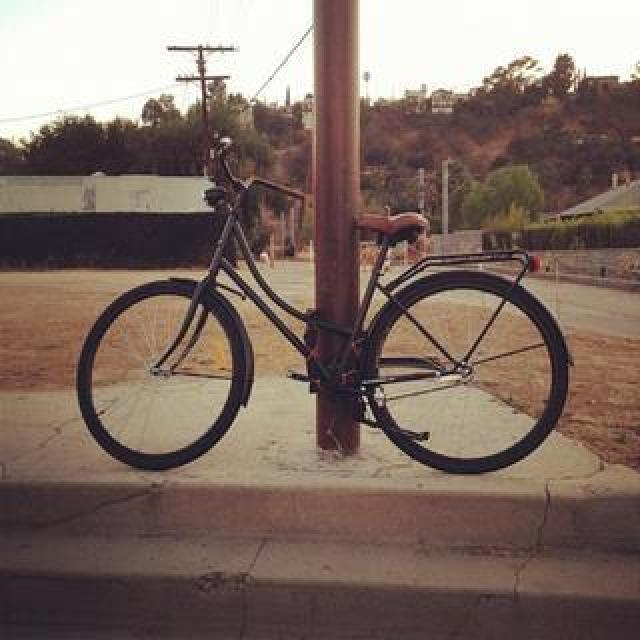Person: (78, 132, 574, 478)
